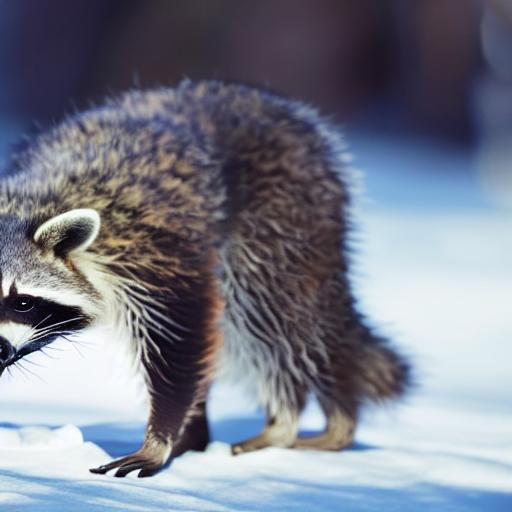raccoon: (0, 58, 431, 419)
